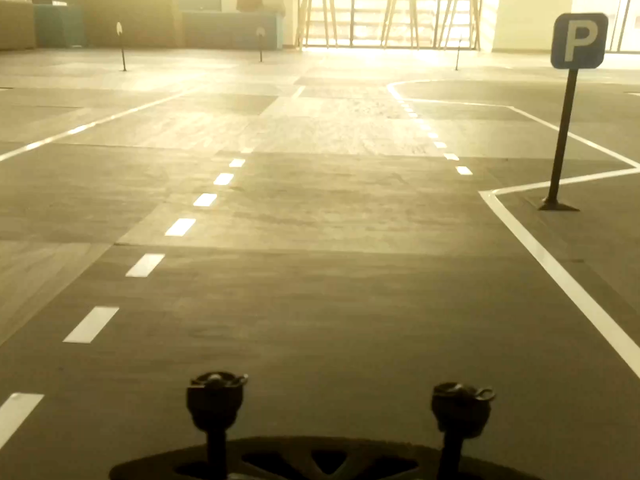parking: (550, 12, 608, 70)
